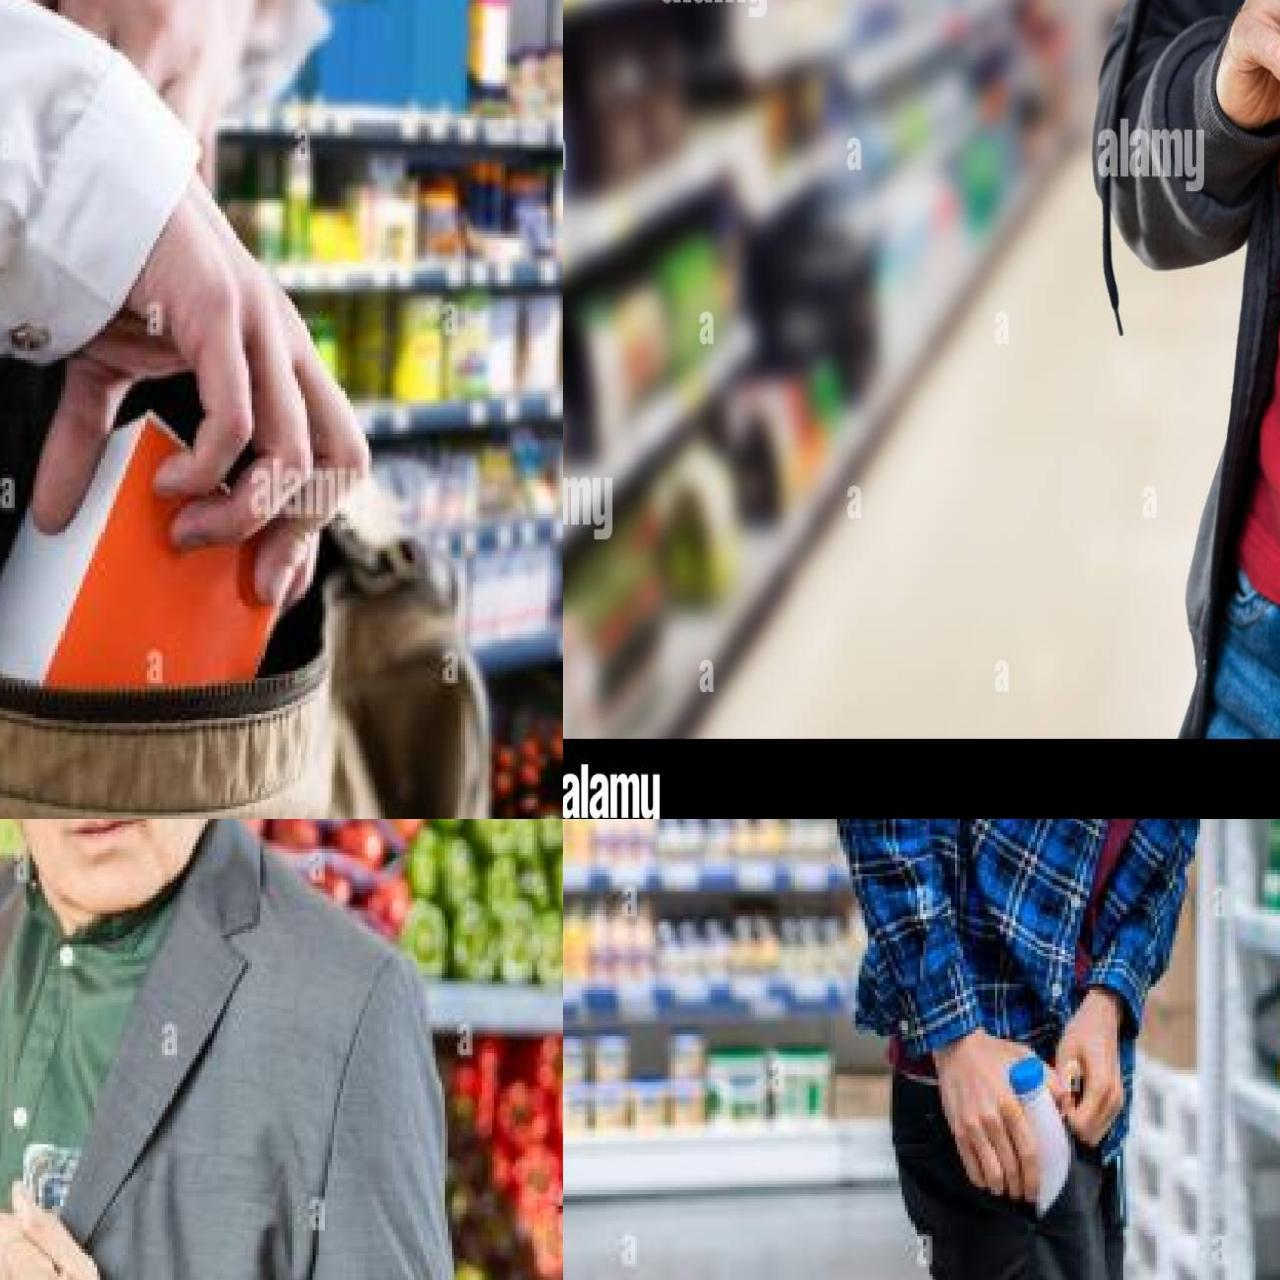Shoplifting: (0, 124, 563, 819), (986, 0, 1280, 685), (869, 819, 1280, 1280), (0, 893, 435, 1280)
